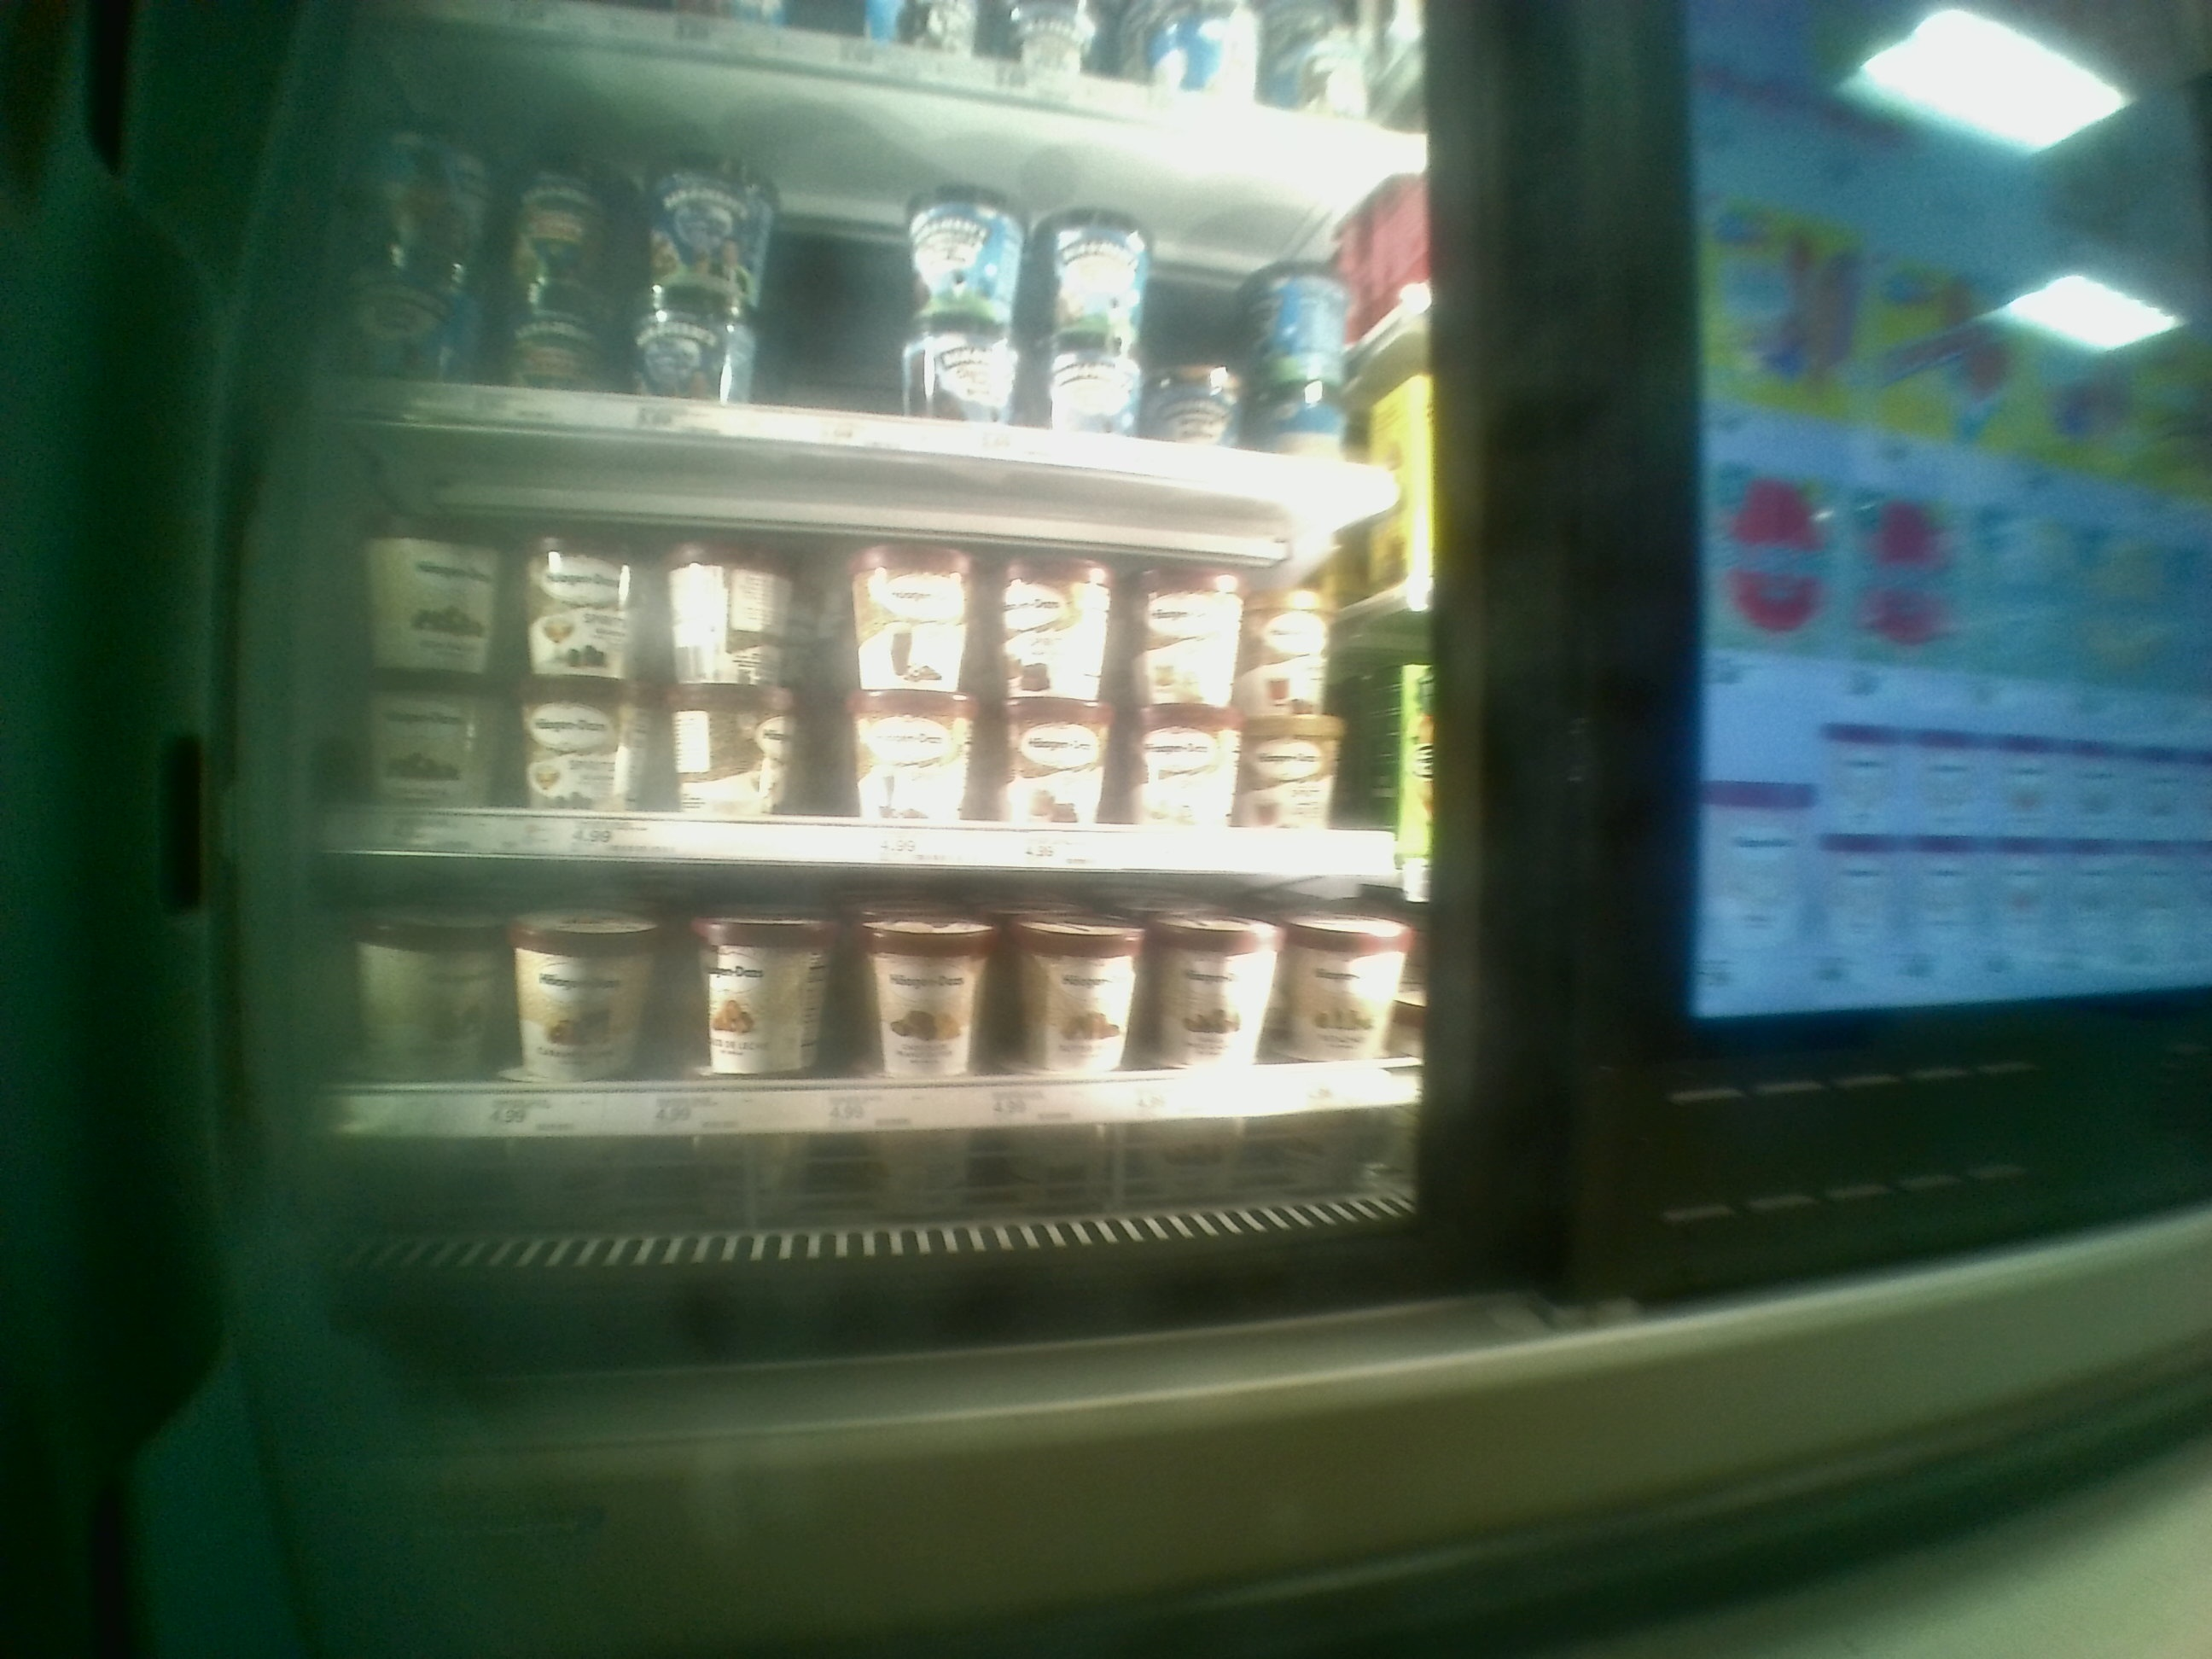shelf: (326, 448, 1400, 863), (324, 864, 1420, 1126)
